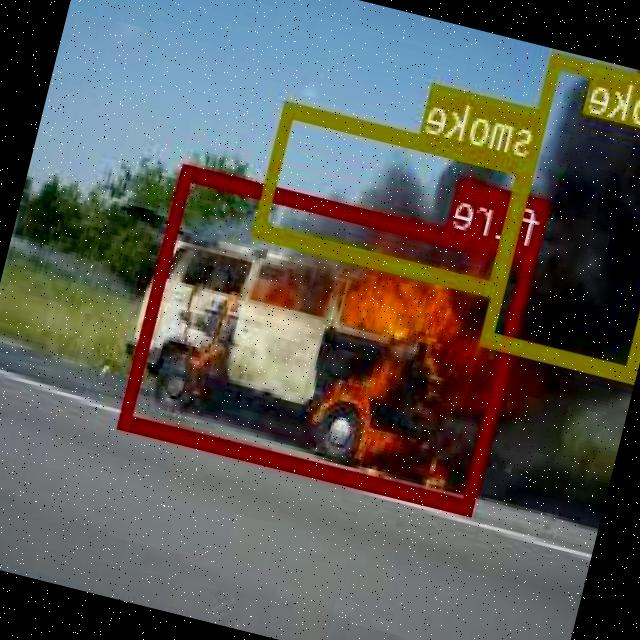fire: (121, 164, 538, 512)
smoke: (256, 100, 534, 296), (481, 52, 640, 381)
